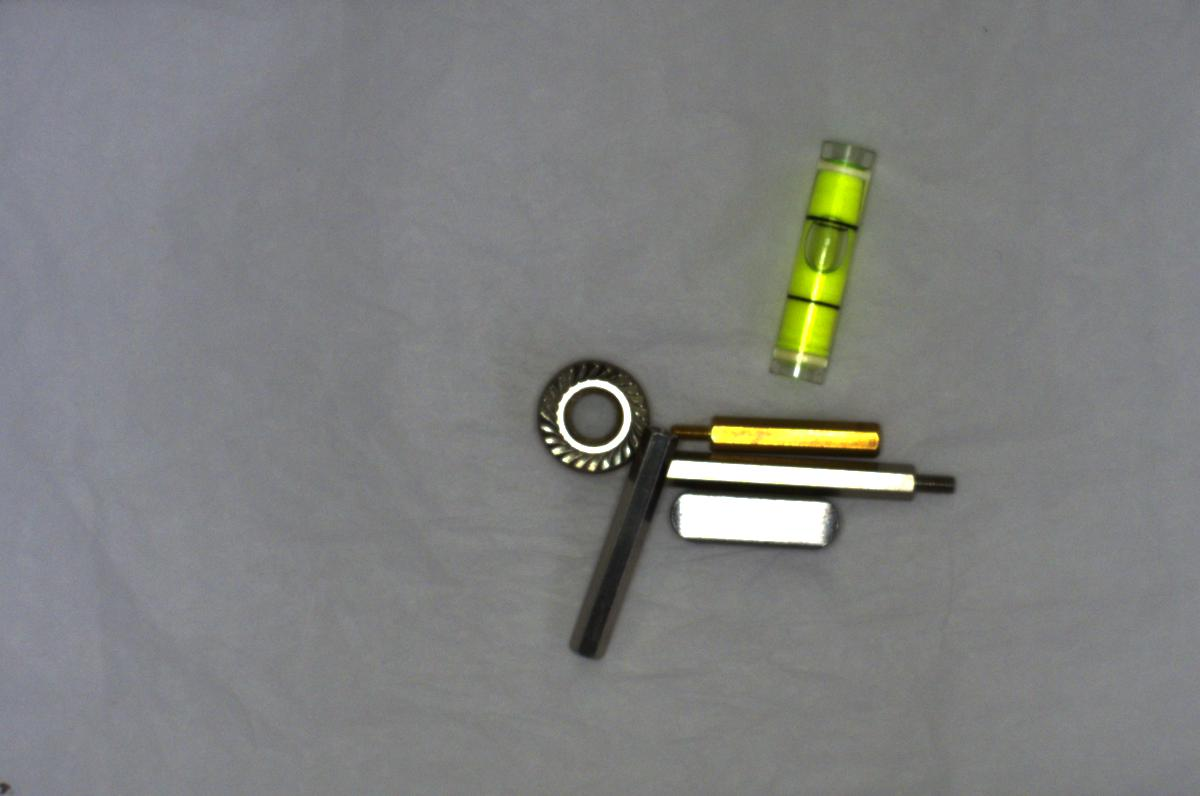Double hexagonal column: (558, 423, 670, 663)
Flange nut: (530, 346, 653, 477)
Hexagon pillar: (652, 405, 891, 458)
Hexagonal steel column: (660, 446, 962, 512)
Horizontal bubble: (756, 123, 888, 391)
Keybar: (660, 483, 850, 551)
